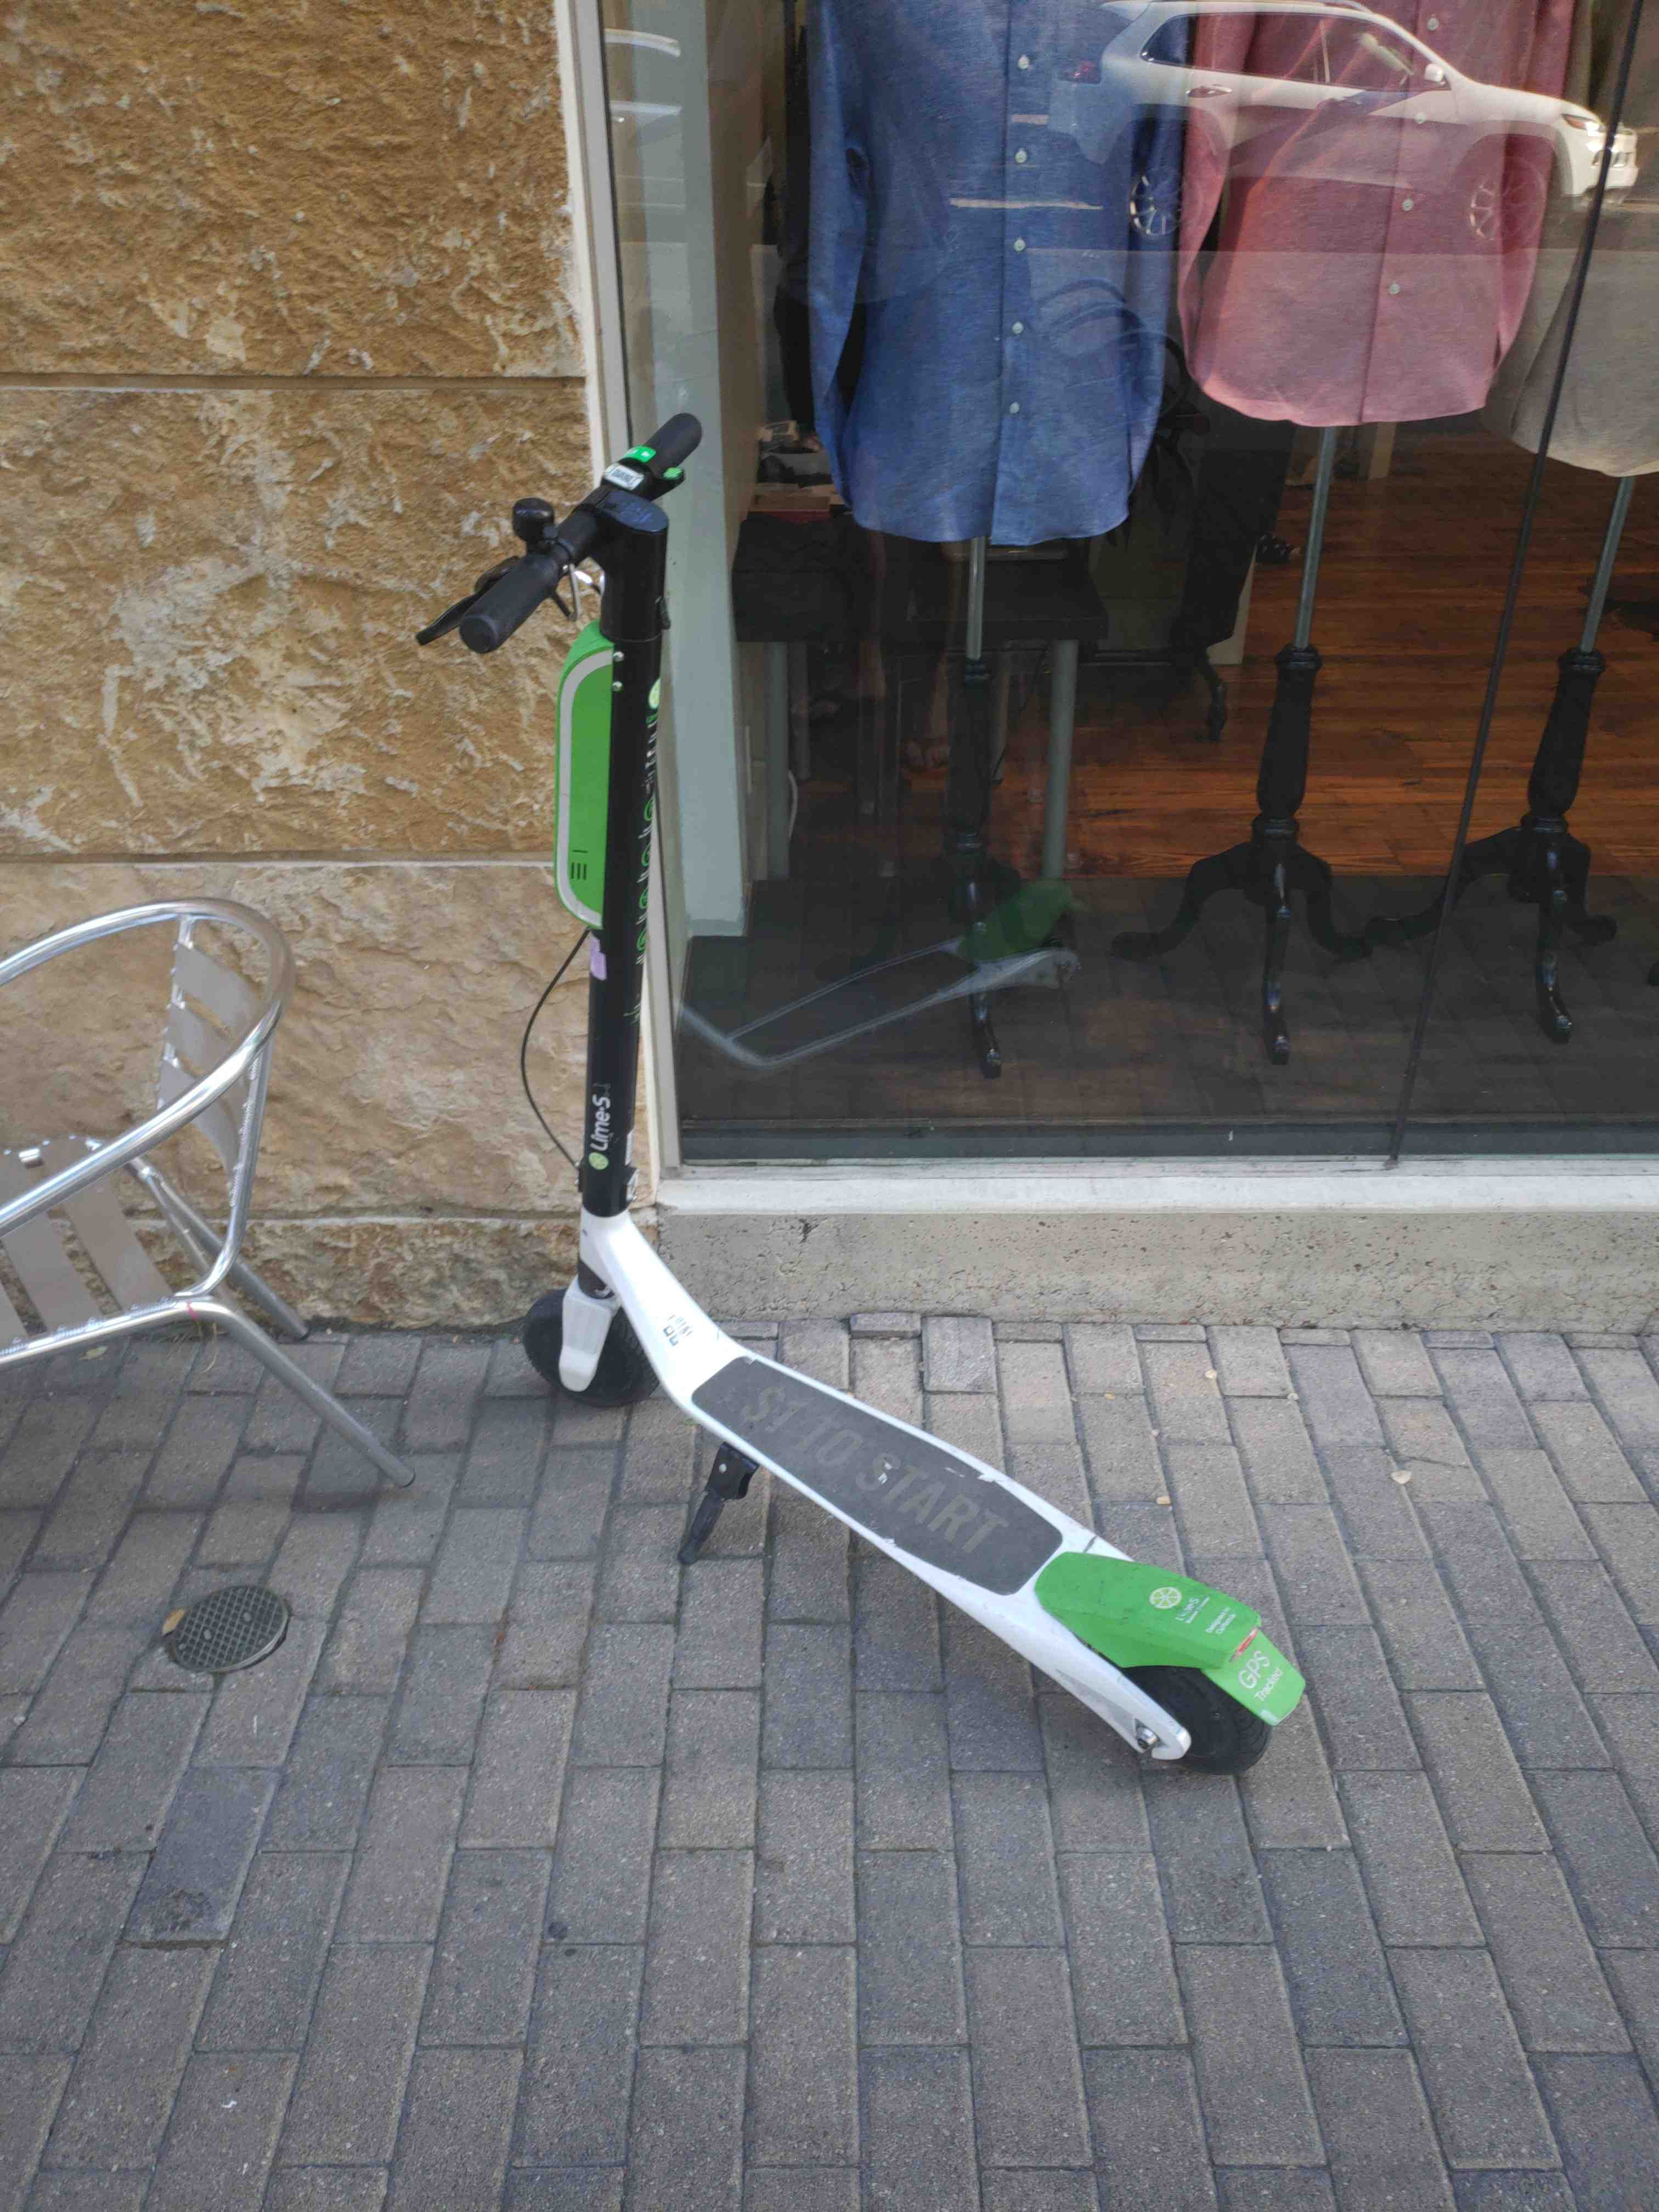scooter: (401, 385, 1330, 1785)
